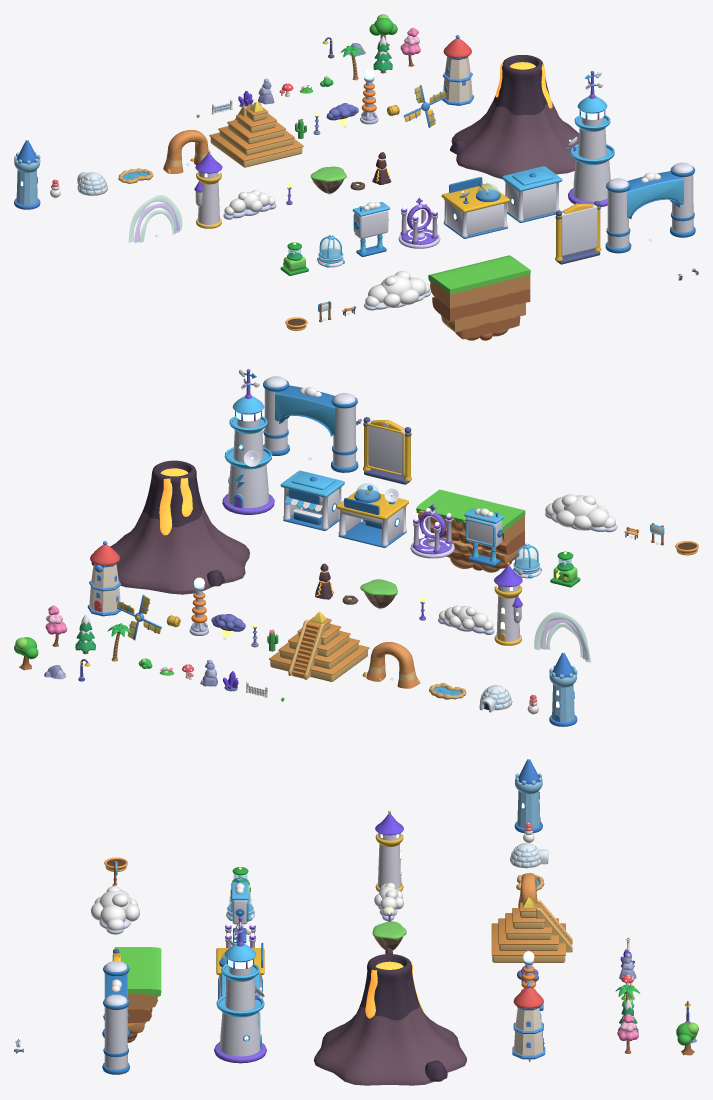
Rendered from StormWorldProps.glb.
3 views of the same model, one above another, from view 1: azimuth 30°, elevation 25°; view 2: azimuth 150°, elevation 25°; view 3: azimuth 270°, elevation 25° (orthographic). The views are drawn at different scales.
Visible parts, largest first — view 1: Volcano.Primary, CliffSegment.Secondary, Volcano.Secondary, WeatherTower.Color_EEF0FF, CliffSegment.Primary, CliffSegment.Tertiary, Pyramid.Secondary, Pyramid.Primary, LeaderboardFrame.Color_EEF0FF, WeatherLab.Color_EEF0FF, CloudPuff.Color_FFFFFF, StationBooth.Color_EEF0FF (+19 smaller); view 2: Volcano.Primary, WeatherTower.Color_EEF0FF, Volcano.Secondary, Pyramid.Secondary, Pyramid.Primary, CliffSegment.Primary, CloudPuff.Color_FFFFFF, LeaderboardFrame.Color_EEF0FF, WeatherLab.Secondary, WeatherTower.Primary, ZoneGate.Primary_2, CliffSegment.Secondary (+25 smaller); view 3: Volcano.Primary, Volcano.Secondary, WeatherTower.Color_EEF0FF, Pyramid.Secondary, Pyramid.Primary, CliffSegment.Primary, ZoneGate.Primary_3, CloudPuff.Color_FFFFFF, WeatherTower.Primary, Windmill.Color_FFF4E0, IceCastleTower.Primary, CitadelTower.Primary (+7 smaller).
Boxes of the visible parts, x1=… form: Volcano.Primary: x1=451, y1=100, x2=579, y2=178; CliffSegment.Secondary: x1=430, y1=275, x2=530, y2=340; Volcano.Secondary: x1=450, y1=55, x2=549, y2=154; WeatherTower.Color_EEF0FF: x1=566, y1=113, x2=610, y2=201; CliffSegment.Primary: x1=428, y1=255, x2=530, y2=294; CliffSegment.Tertiary: x1=432, y1=289, x2=530, y2=340; Pyramid.Secondary: x1=209, y1=105, x2=303, y2=161; Pyramid.Primary: x1=210, y1=102, x2=302, y2=167; LeaderboardFrame.Color_EEF0FF: x1=561, y1=204, x2=597, y2=256; WeatherLab.Color_EEF0FF: x1=444, y1=190, x2=507, y2=237; CloudPuff.Color_FFFFFF: x1=365, y1=271, x2=430, y2=307; StationBooth.Color_EEF0FF: x1=504, y1=181, x2=559, y2=221; Volcano.Primary: x1=110, y1=509, x2=249, y2=594; WeatherTower.Color_EEF0FF: x1=228, y1=414, x2=268, y2=508; Volcano.Secondary: x1=91, y1=460, x2=225, y2=586; Pyramid.Secondary: x1=269, y1=617, x2=369, y2=678; Pyramid.Primary: x1=270, y1=619, x2=367, y2=681; CliffSegment.Primary: x1=416, y1=489, x2=525, y2=533; CloudPuff.Color_FFFFFF: x1=545, y1=494, x2=615, y2=530; LeaderboardFrame.Color_EEF0FF: x1=366, y1=420, x2=405, y2=475; WeatherLab.Secondary: x1=338, y1=485, x2=406, y2=547; WeatherTower.Primary: x1=224, y1=372, x2=272, y2=508; ZoneGate.Primary_2: x1=333, y1=393, x2=356, y2=467; CliffSegment.Secondary: x1=418, y1=510, x2=524, y2=572; Volcano.Primary: x1=314, y1=1005, x2=466, y2=1085; Volcano.Secondary: x1=359, y1=954, x2=447, y2=1081; WeatherTower.Color_EEF0FF: x1=219, y1=961, x2=264, y2=1056; Pyramid.Secondary: x1=491, y1=902, x2=570, y2=955; Pyramid.Primary: x1=492, y1=900, x2=572, y2=962; CliffSegment.Primary: x1=114, y1=947, x2=161, y2=996; ZoneGate.Primary_3: x1=104, y1=994, x2=127, y2=1069; CloudPuff.Color_FFFFFF: x1=91, y1=886, x2=139, y2=930; WeatherTower.Primary: x1=216, y1=922, x2=264, y2=1050; Windmill.Color_FFF4E0: x1=514, y1=1008, x2=543, y2=1055; IceCastleTower.Primary: x1=515, y1=773, x2=542, y2=828; CitadelTower.Primary: x1=378, y1=833, x2=400, y2=889.
Bounding box in the file's own units: 248 × 89.97 × 276.
